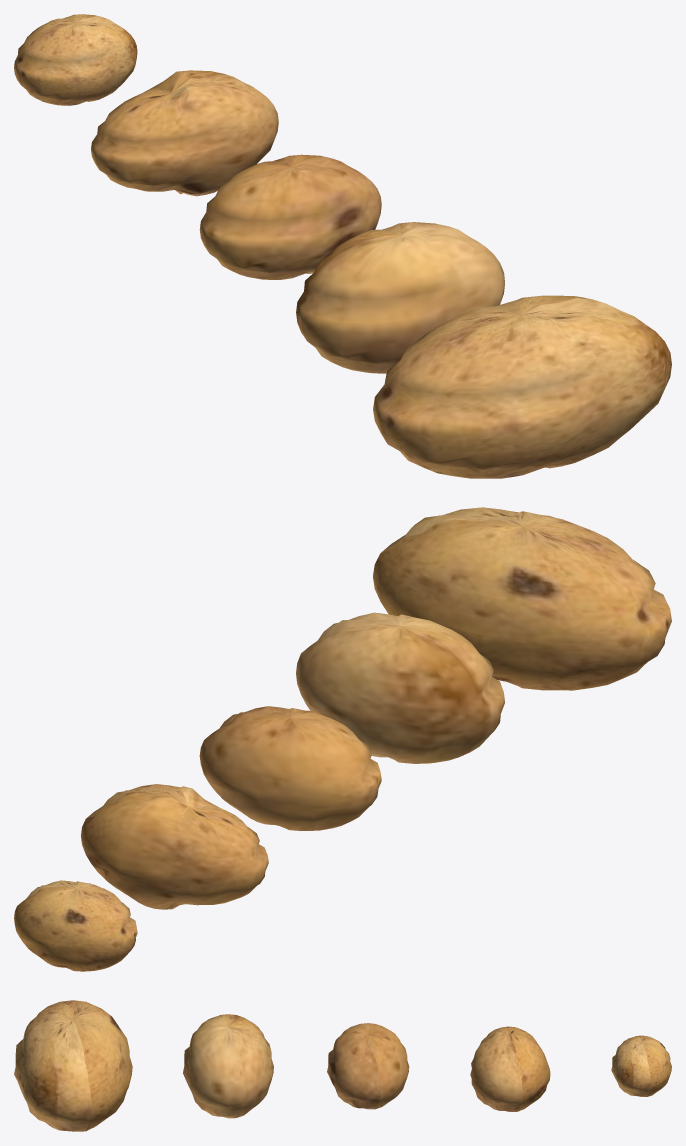
Rendered from Potato.fbx.
3 renders of one model, top to bottom at view 1: azimuth 30°, elevation 25°; view 2: azimuth 150°, elevation 25°; view 3: azimuth 270°, elevation 25°, orthographic. The views are drawn at different scales.
Parts seen in each view (by area): view 1: pSphere6, pSphere5, pSphere3, pSphere2, pSphere4; view 2: pSphere6, pSphere5, pSphere3, pSphere2, pSphere4; view 3: pSphere6, pSphere5, pSphere2, pSphere3, pSphere4.
Part boxes in pixels (bbox=[...]): pSphere6: bbox=[373, 295, 671, 478]; pSphere5: bbox=[296, 222, 504, 373]; pSphere3: bbox=[91, 70, 278, 196]; pSphere2: bbox=[199, 154, 381, 279]; pSphere4: bbox=[14, 14, 137, 105]; pSphere6: bbox=[373, 507, 671, 690]; pSphere5: bbox=[296, 612, 504, 763]; pSphere3: bbox=[81, 784, 268, 909]; pSphere2: bbox=[199, 706, 381, 830]; pSphere4: bbox=[14, 880, 137, 971]; pSphere6: bbox=[14, 1000, 132, 1131]; pSphere5: bbox=[183, 1014, 273, 1118]; pSphere2: bbox=[327, 1023, 409, 1109]; pSphere3: bbox=[470, 1026, 550, 1111]; pSphere4: bbox=[611, 1035, 671, 1096].
Bounding box in the file's own units: 5.45 × 2.82 × 17.27.
1 material, 1 textured.
